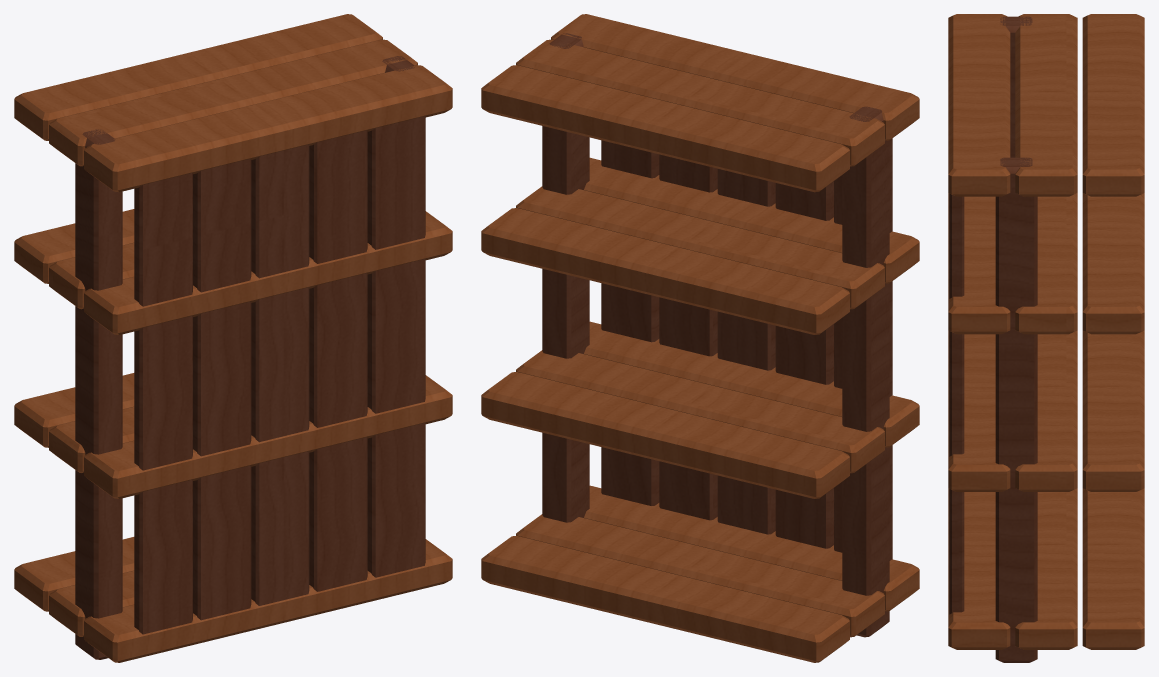
The model's file is Prop_Shelf.obj.
The picture shows the model from 3 angles, left to right: view 1: azimuth 30°, elevation 25°; view 2: azimuth 150°, elevation 25°; view 3: azimuth 270°, elevation 25°; orthographic projection. The views are drawn at different scales.
Parts seen in each view (by area): view 1: Back_planks, Shelves, Posts; view 2: Shelves, Back_planks, Posts; view 3: Shelves, Posts, Back_planks.
Part boxes in pixels (left/top/right/bottom): Back_planks: left=134, top=116, right=425, bottom=634; Shelves: left=14, top=14, right=452, bottom=662; Posts: left=75, top=56, right=414, bottom=659; Shelves: left=481, top=14, right=919, bottom=662; Back_planks: left=601, top=138, right=892, bottom=560; Posts: left=542, top=33, right=889, bottom=637; Shelves: left=948, top=14, right=1144, bottom=649; Posts: left=995, top=16, right=1037, bottom=662; Back_planks: left=949, top=193, right=964, bottom=614.
Bounding box in the file's own units: 1.52 × 2.2 × 0.79.
2 materials, 2 textured.
